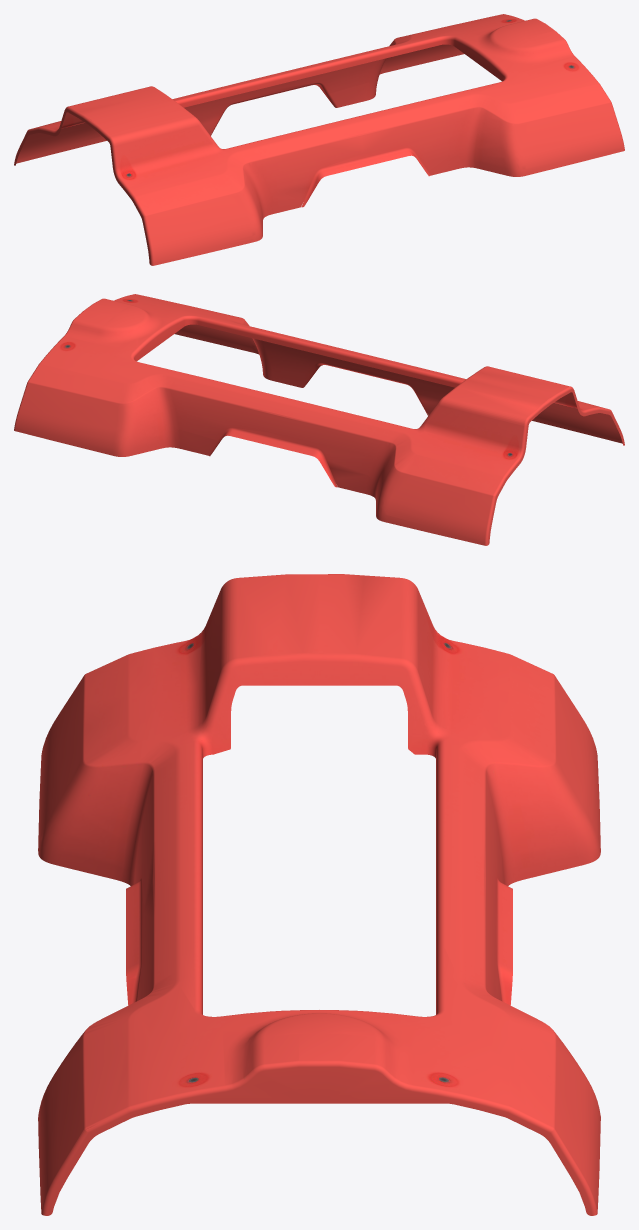
Rendered from top_shell.dae.
3 views of the same model, one above another, from view 1: azimuth 30°, elevation 25°; view 2: azimuth 150°, elevation 25°; view 3: azimuth 270°, elevation 25° (orthographic). The views are drawn at different scales.
Parts seen in each view (by area): view 1: AM3 Shell Top; view 2: AM3 Shell Top; view 3: AM3 Shell Top.
Boxes of the visible parts, x1,y1,x2,y2 form: AM3 Shell Top: (14,14,624,265); AM3 Shell Top: (14,294,624,545); AM3 Shell Top: (38,574,600,1215).
Size of the model in its own units: 0.6192 by 0.3184 by 0.117.
1 material, 1 textured.
